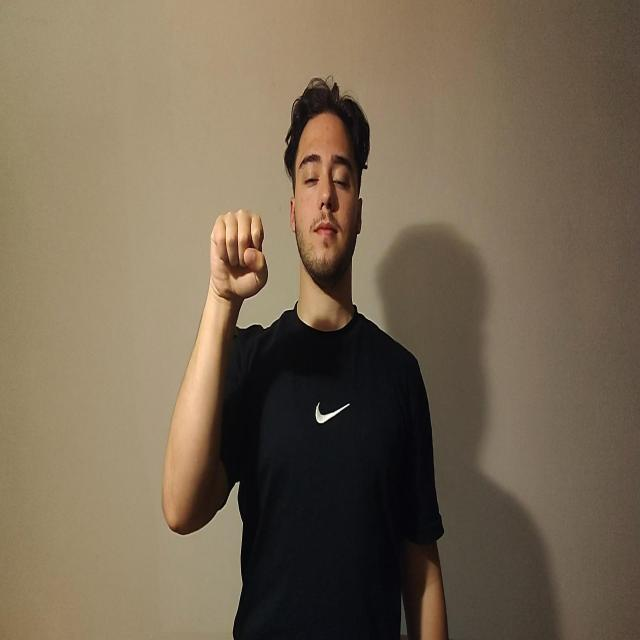yes: (210, 208, 268, 302)
